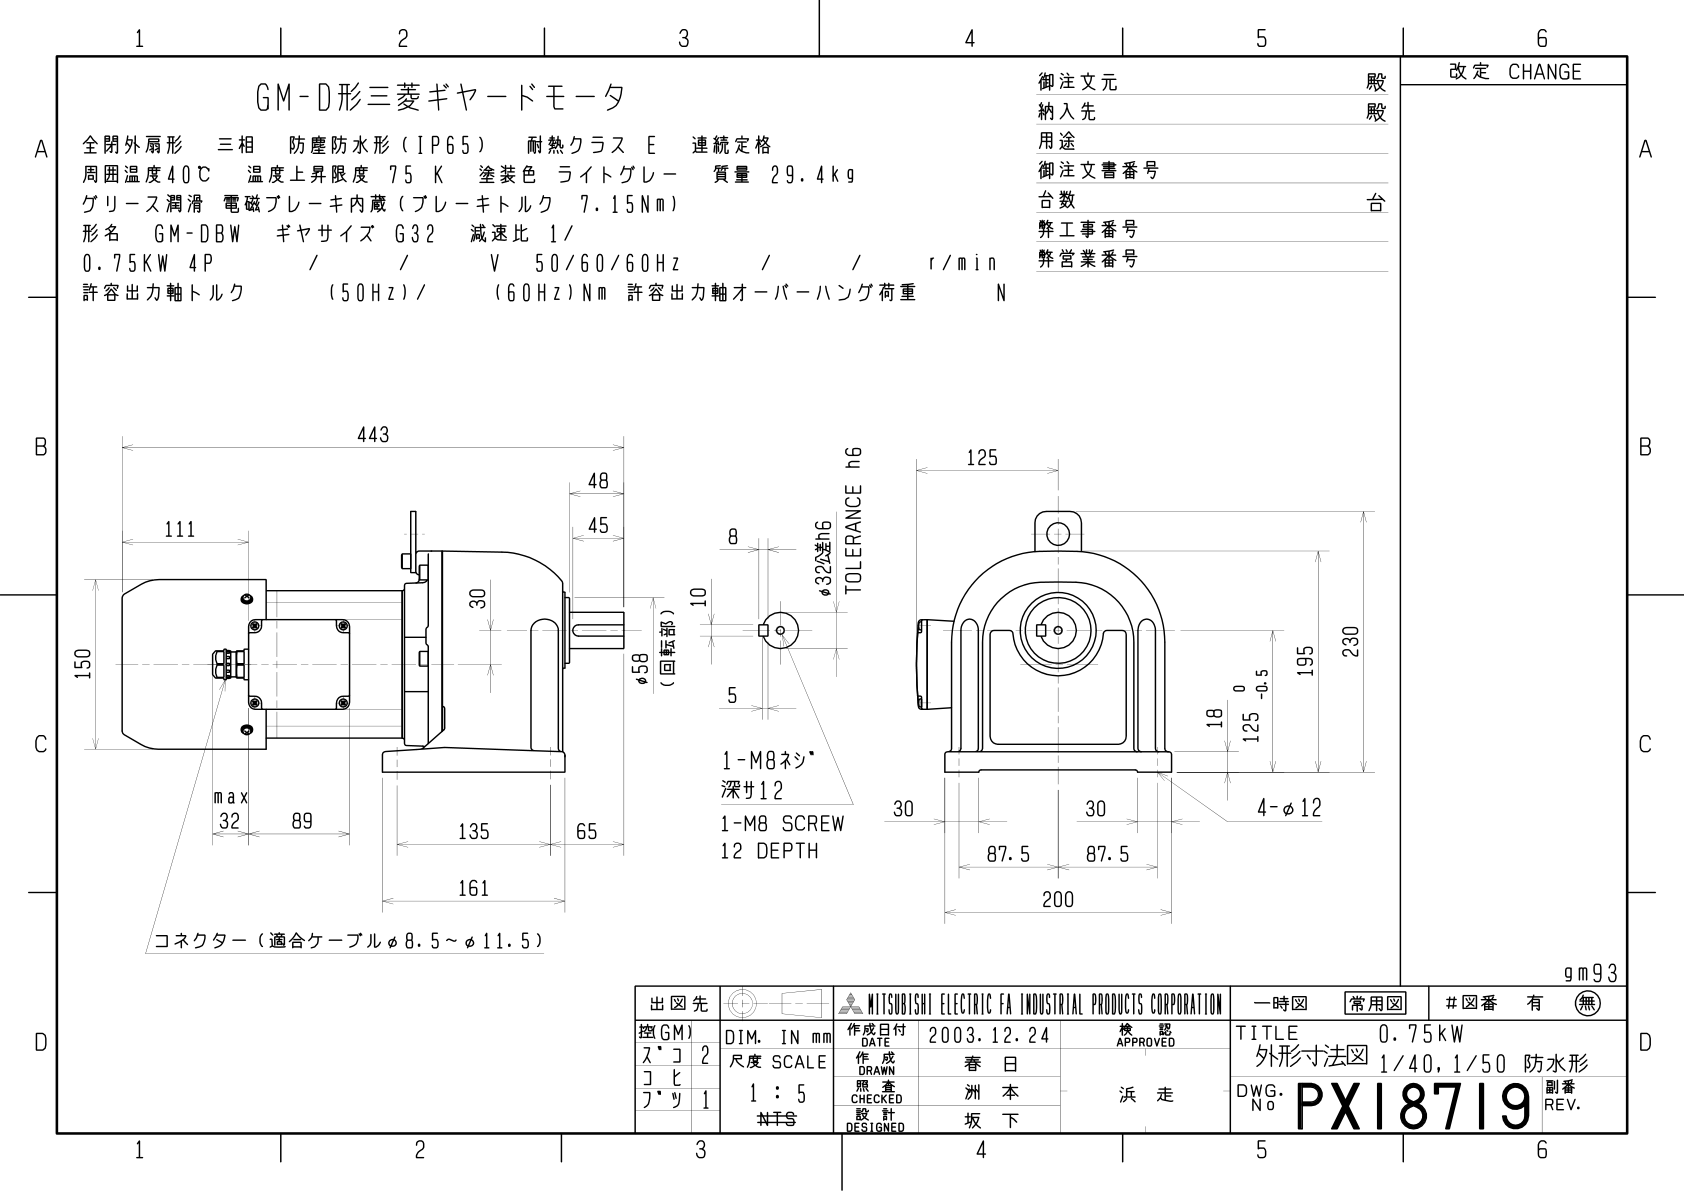GM_D_IP65_三相_脚: (52, 345, 1392, 967)
